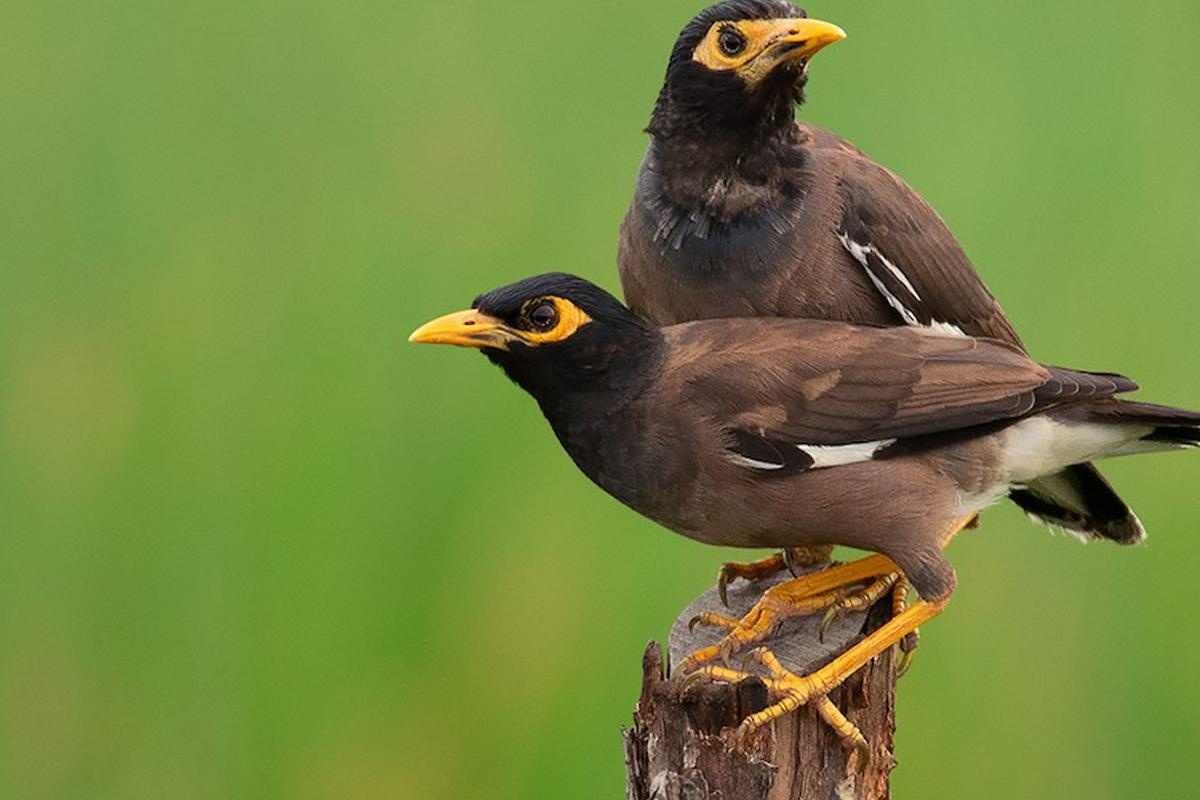myna: (404, 256, 1194, 762), (611, 4, 1169, 390)
